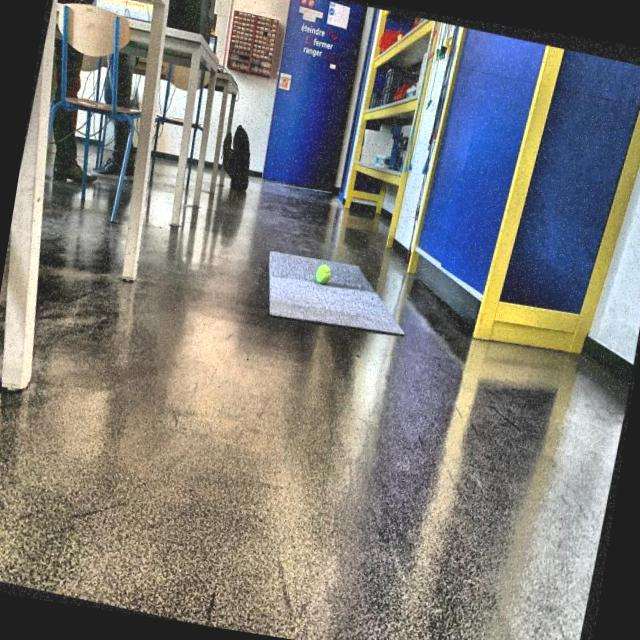Tennis Ball: (315, 262, 334, 288)
